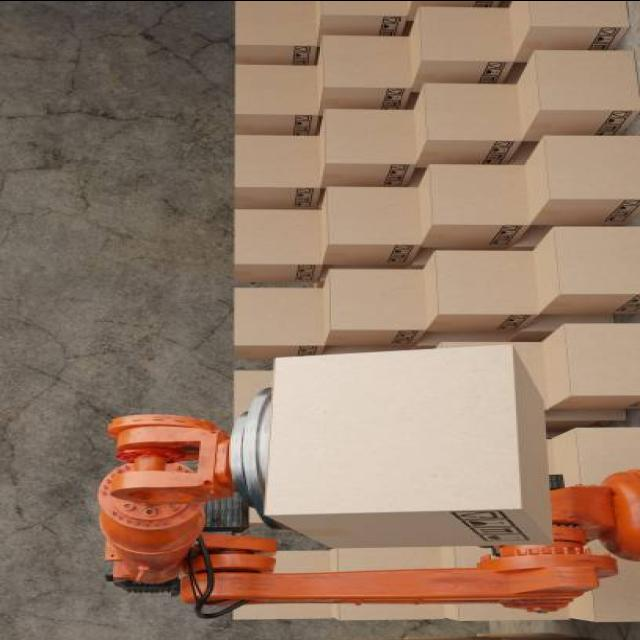Robotic-arm: (73, 408, 640, 618)
